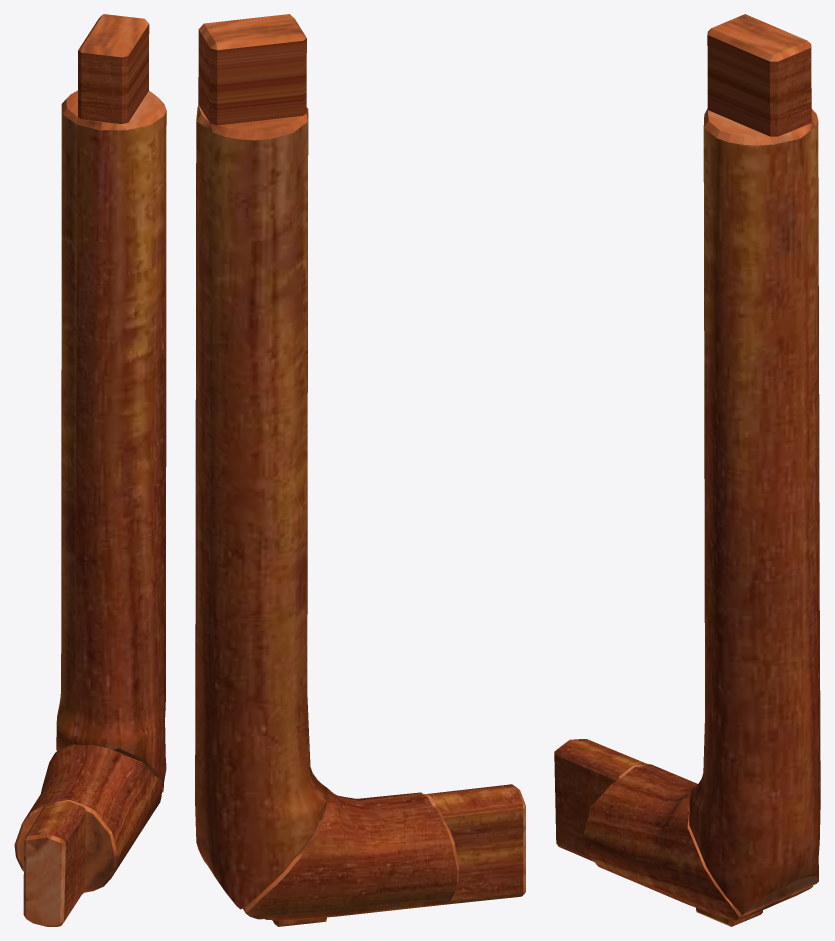
File: ytsy_J_H_shugan_018.FBX
3 views of the same model, side by side, from view 1: azimuth 30°, elevation 25°; view 2: azimuth 150°, elevation 25°; view 3: azimuth 270°, elevation 25° (orthographic). The views are drawn at different scales.
Parts seen in each view (by area): view 1: ytsy_J_shugan_018; view 2: ytsy_J_shugan_018; view 3: ytsy_J_shugan_018.
Part boxes in pixels (box(x1,y1,x2,y2)): ytsy_J_shugan_018: box(14, 14, 166, 926); ytsy_J_shugan_018: box(195, 14, 525, 926); ytsy_J_shugan_018: box(554, 14, 820, 926).
Bounding box in the file's own units: 4.58 × 16.48 × 4.45.
